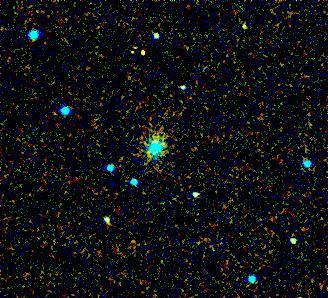star: (231, 10, 261, 40)
